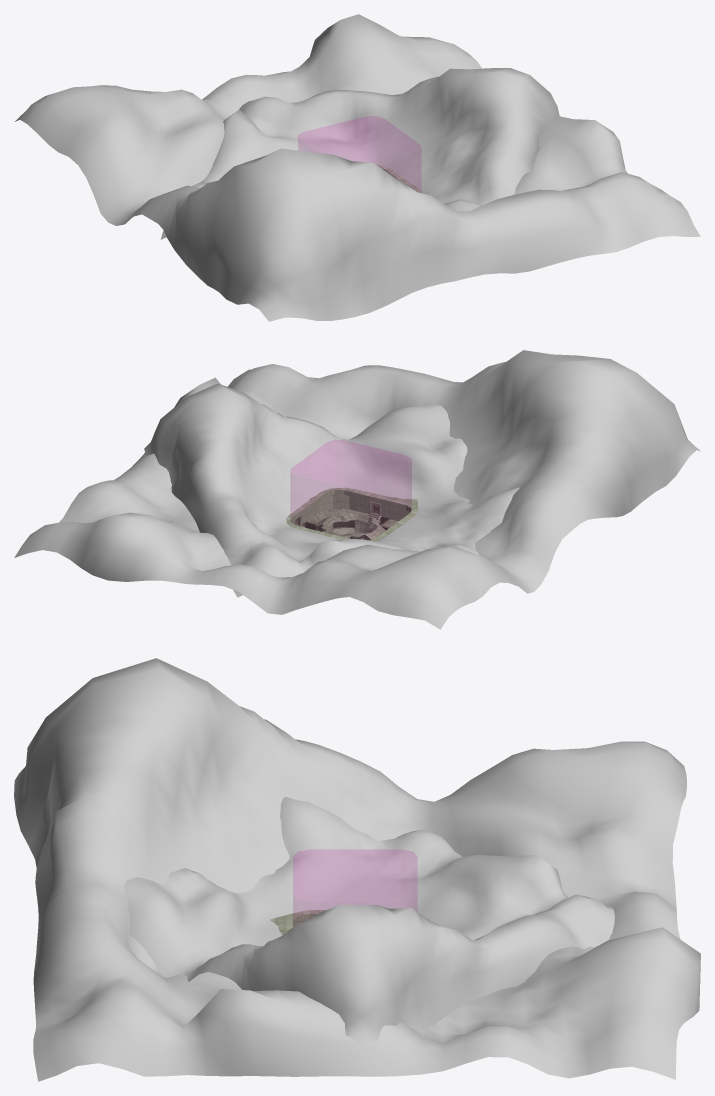
File: Dragonfly_Earthscraper.fbx
3 views of the same model, one above another, from view 1: azimuth 30°, elevation 25°; view 2: azimuth 150°, elevation 25°; view 3: azimuth 270°, elevation 25° (orthographic). The views are drawn at different scales.
Visible parts, largest first — view 1: Terrain, Player Clipping; view 2: Terrain, Player Clipping, Map_ConcreteWalls, Map_ConcreteGeneral, Map_ConcreteTiles, Map_MetalSteps; view 3: Terrain, Player Clipping.
Boxes of the visible parts, bbox=[...] form: Terrain: bbox=[15, 14, 700, 321]; Player Clipping: bbox=[298, 116, 420, 192]; Terrain: bbox=[14, 350, 700, 629]; Player Clipping: bbox=[291, 440, 411, 517]; Map_ConcreteWalls: bbox=[290, 489, 411, 535]; Map_ConcreteGeneral: bbox=[307, 509, 398, 540]; Map_ConcreteTiles: bbox=[286, 487, 418, 541]; Map_MetalSteps: bbox=[294, 501, 388, 535]; Terrain: bbox=[14, 658, 700, 1081]; Player Clipping: bbox=[293, 850, 416, 920].
Size of the model in its own units: 202 by 83.88 by 212.
